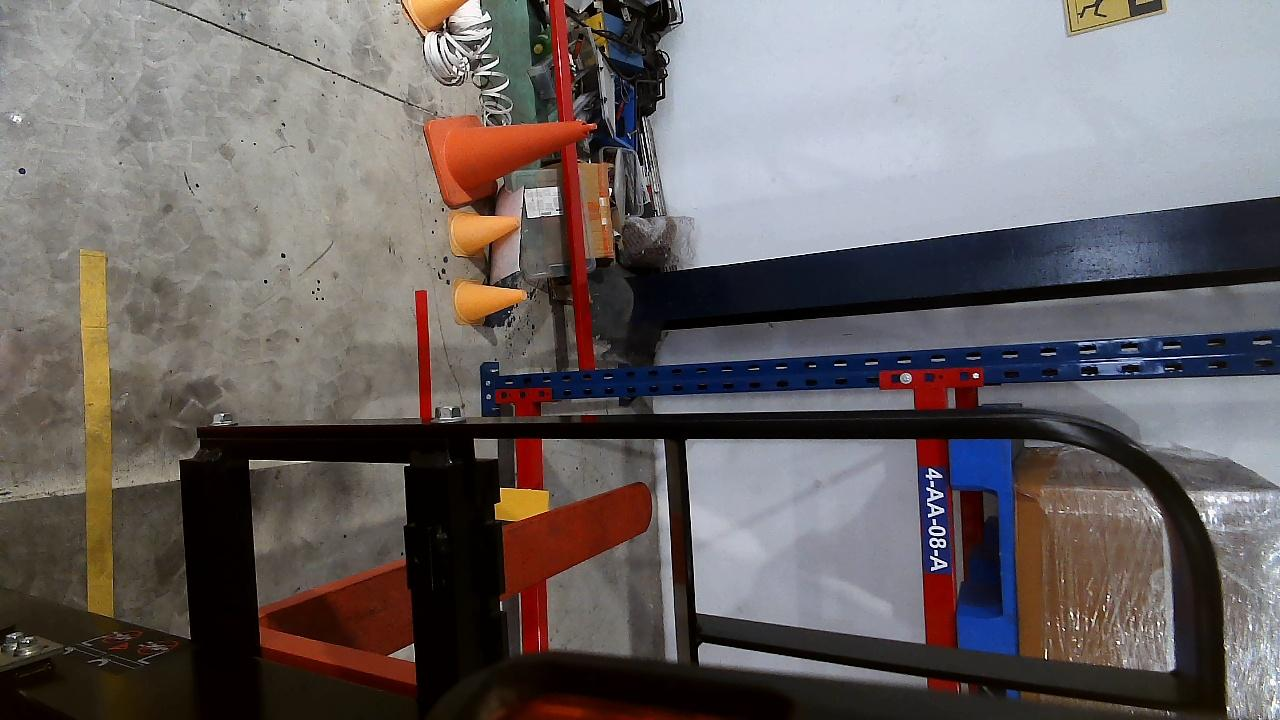h_rack: (513, 404, 550, 650), (924, 439, 961, 641)
orange_strip: (494, 487, 549, 520)
red_line: (413, 290, 435, 420)
small_pallet: (947, 441, 1022, 652)
yellow_line: (79, 248, 112, 617)
